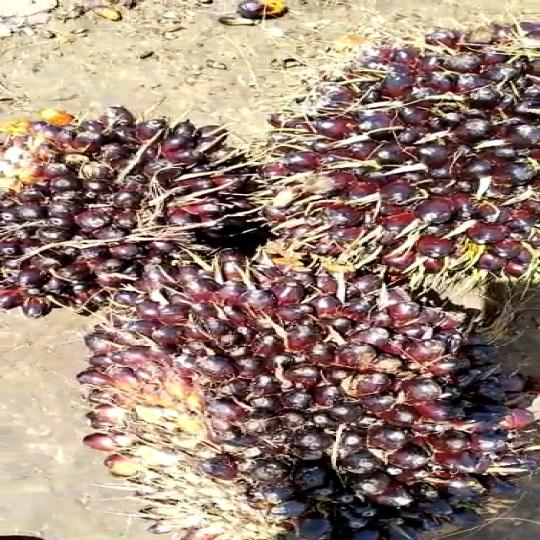mentah: (74, 250, 532, 540), (268, 26, 540, 278), (0, 93, 253, 321)
